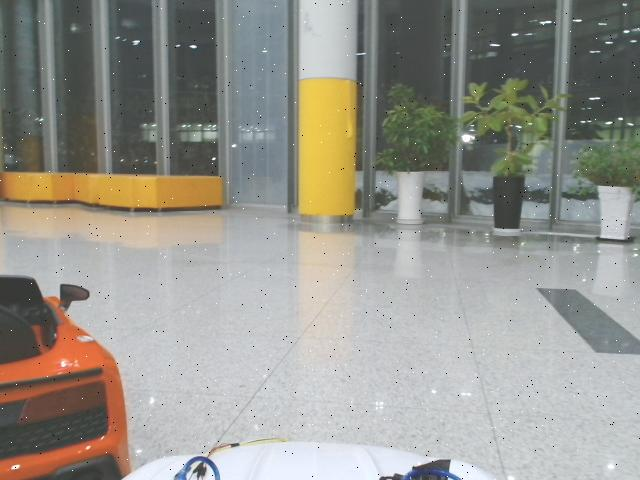car: (1, 275, 131, 480)
